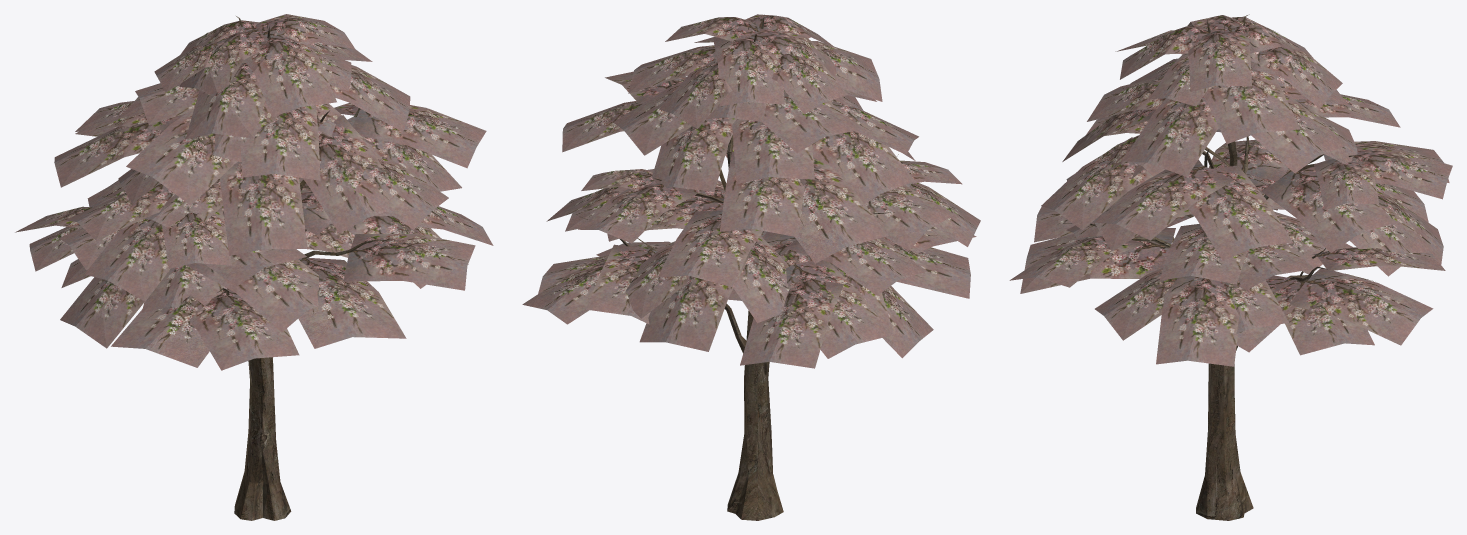
Rendered from bg_anh_tree_cherryblossomtree01a_sm_ysi.FBX.
3 views of the same model, side by side, from view 1: azimuth 30°, elevation 25°; view 2: azimuth 150°, elevation 25°; view 3: azimuth 270°, elevation 25° (orthographic).
Parts seen in each view (by area): view 1: bg_anh_tree_cherryblossomtree01a_sm_ysi; view 2: bg_anh_tree_cherryblossomtree01a_sm_ysi; view 3: bg_anh_tree_cherryblossomtree01a_sm_ysi.
Part boxes in pixels (x1,y1,x2,y2): bg_anh_tree_cherryblossomtree01a_sm_ysi: [15, 14, 493, 520]; bg_anh_tree_cherryblossomtree01a_sm_ysi: [522, 14, 980, 520]; bg_anh_tree_cherryblossomtree01a_sm_ysi: [1009, 14, 1452, 520].
Size of the model in its own units: 426 by 499 by 410.
